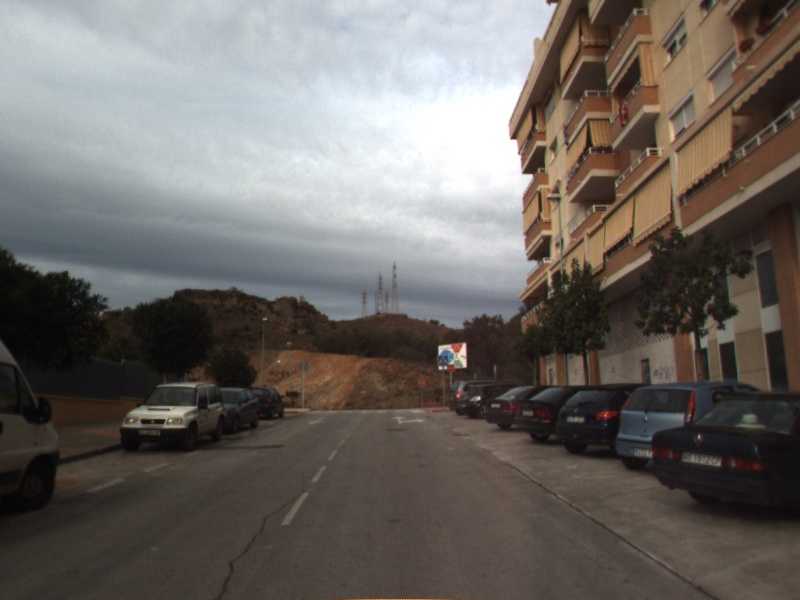STRAIGHT_RIGHT: (390, 413, 427, 426)
